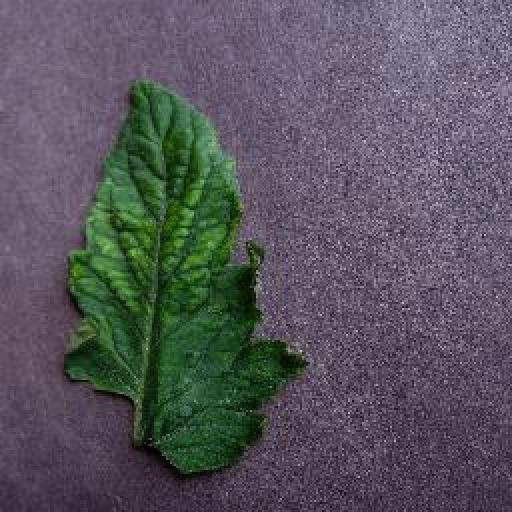Mosaic Virus: (62, 74, 304, 470)
